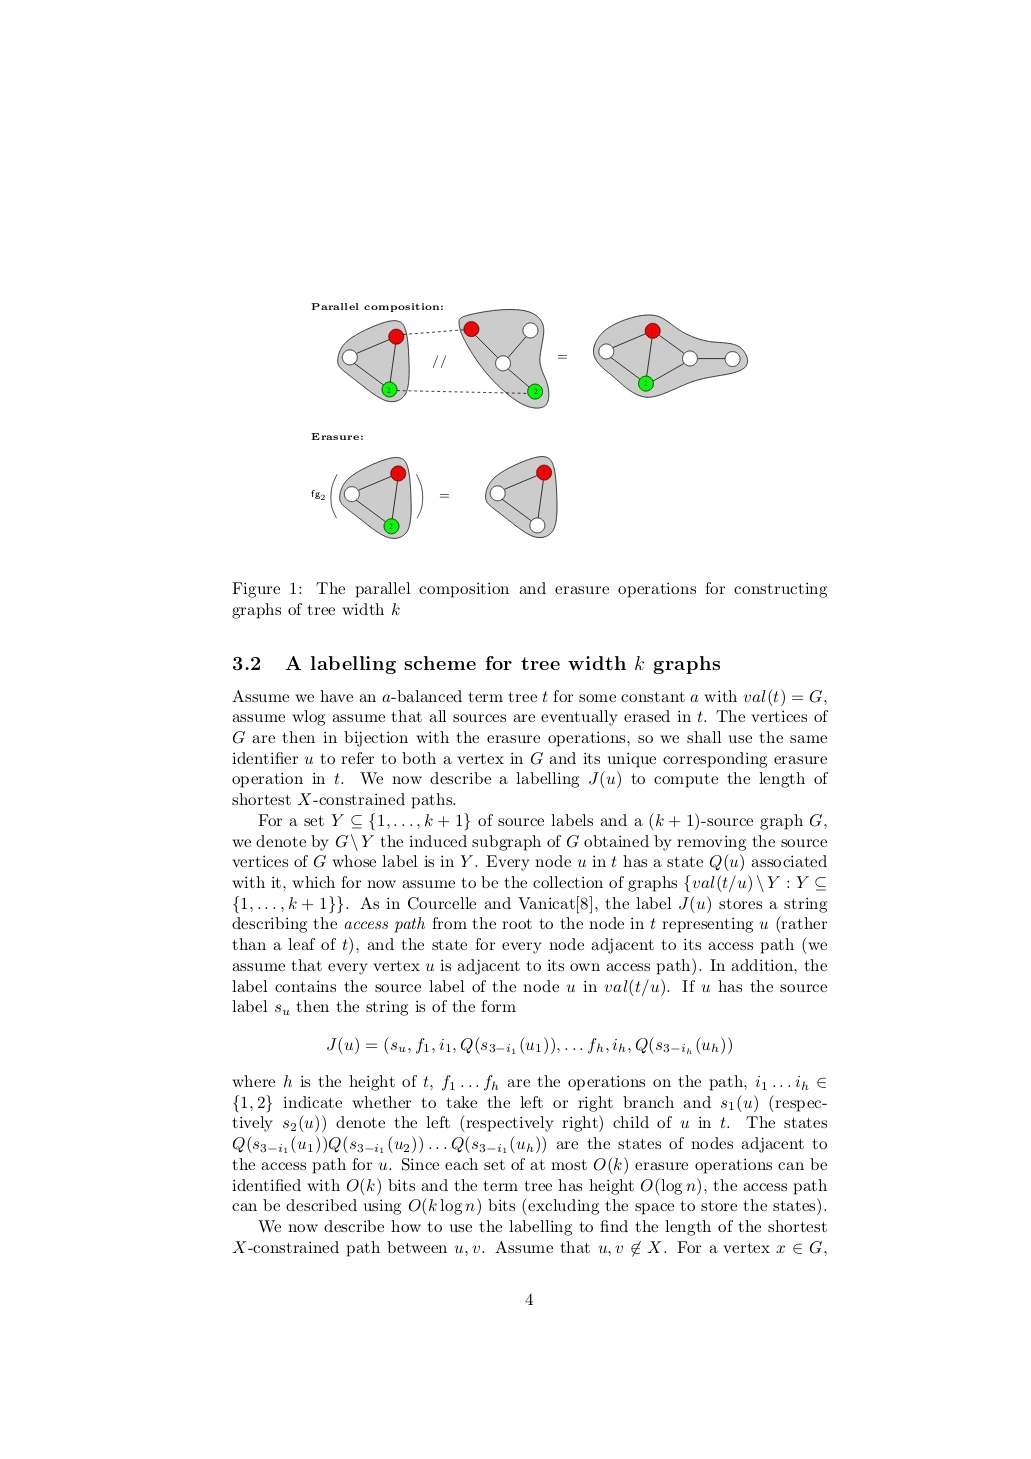figure: (311, 302, 746, 409), (311, 455, 557, 539)
formula: (327, 1036, 731, 1055)
